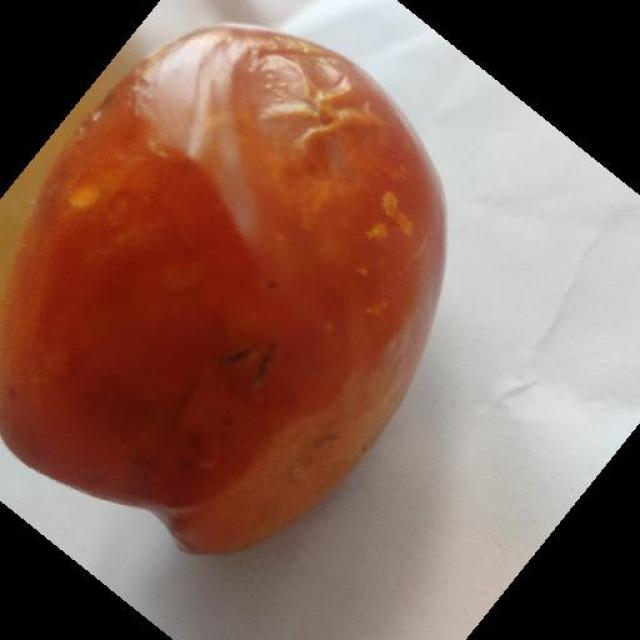Stale_tomato: (96, 55, 409, 522)
